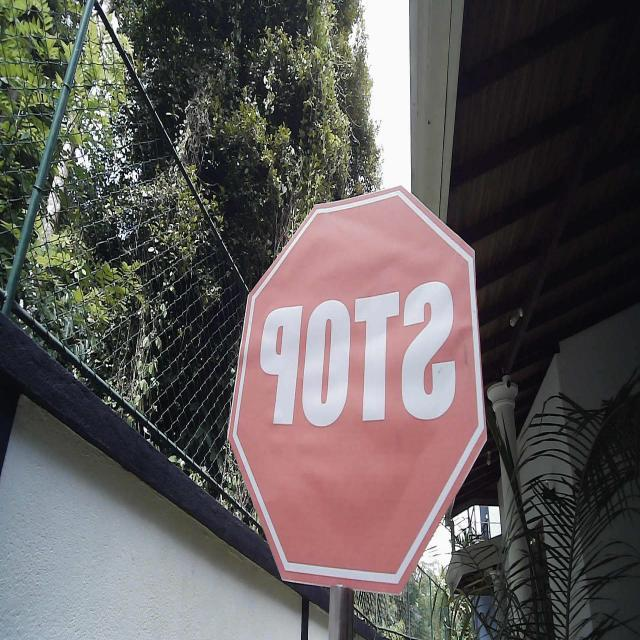stop: (226, 181, 490, 598)
